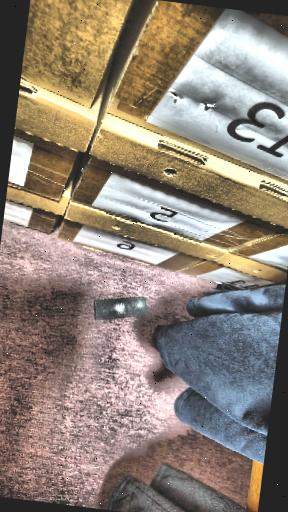borrador: (95, 297, 147, 319)
